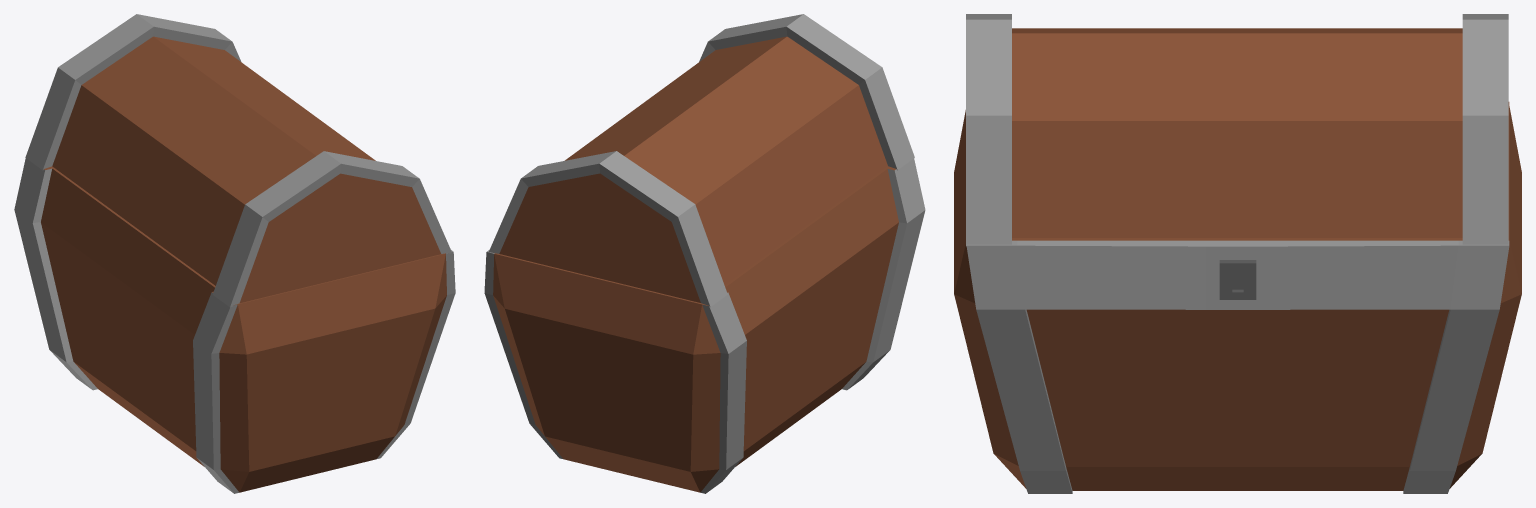
The model's file is Chest.glb.
3 views of the same model, side by side, from view 1: azimuth 30°, elevation 25°; view 2: azimuth 150°, elevation 25°; view 3: azimuth 270°, elevation 25° (orthographic). The views are drawn at different scales.
Visible parts, largest first — view 1: ChestBottom, ChestTop; view 2: ChestBottom, ChestTop; view 3: ChestBottom, ChestTop.
Part boxes in pixels (<box>): ChestBottom: <box>14,158,455,493</box>; ChestTop: <box>25,14,451,307</box>; ChestBottom: <box>484,158,925,493</box>; ChestTop: <box>489,14,914,307</box>; ChestBottom: <box>954,102,1521,493</box>; ChestTop: <box>966,14,1508,246</box>.
Bounding box in the file's own units: 0.7475 × 0.9443 × 1.12.
